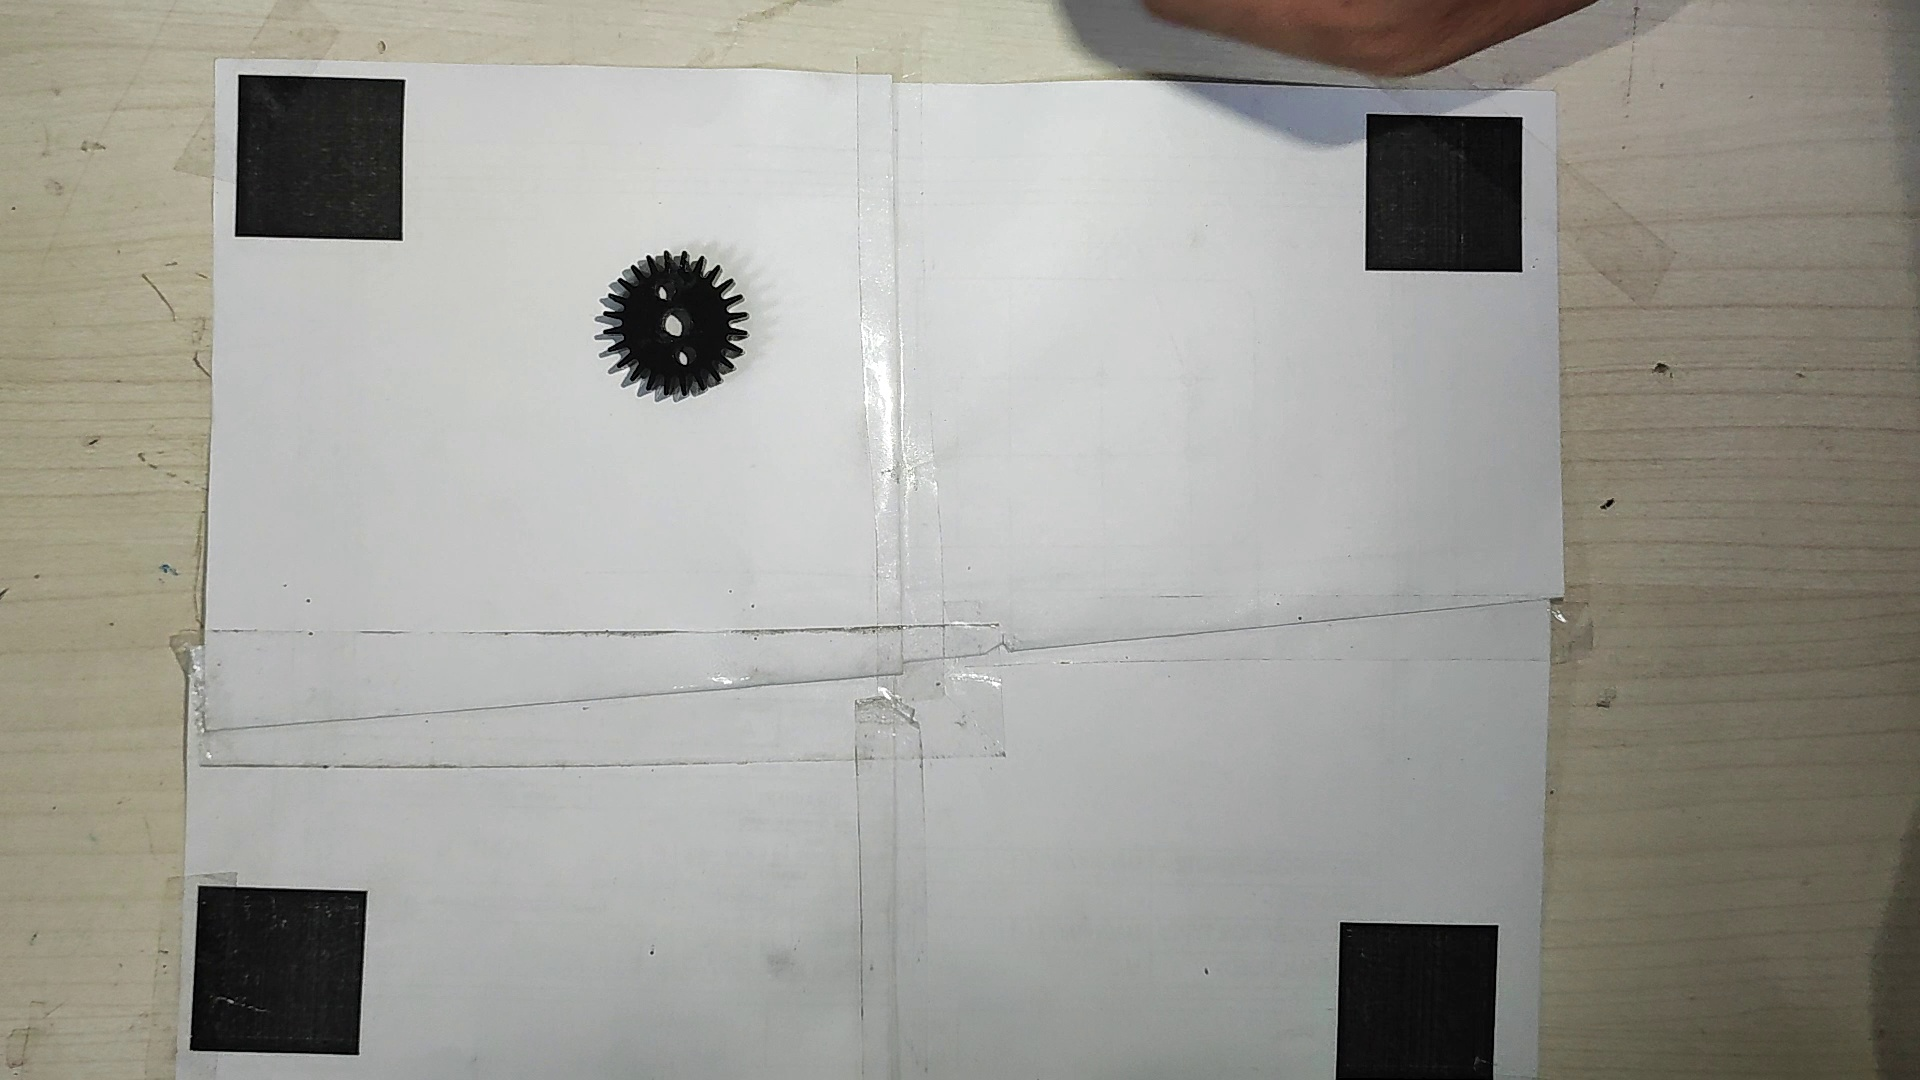Gear: (590, 247, 752, 406)
